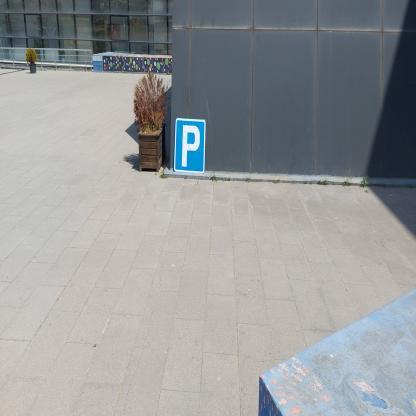parking: (173, 117, 206, 174)
